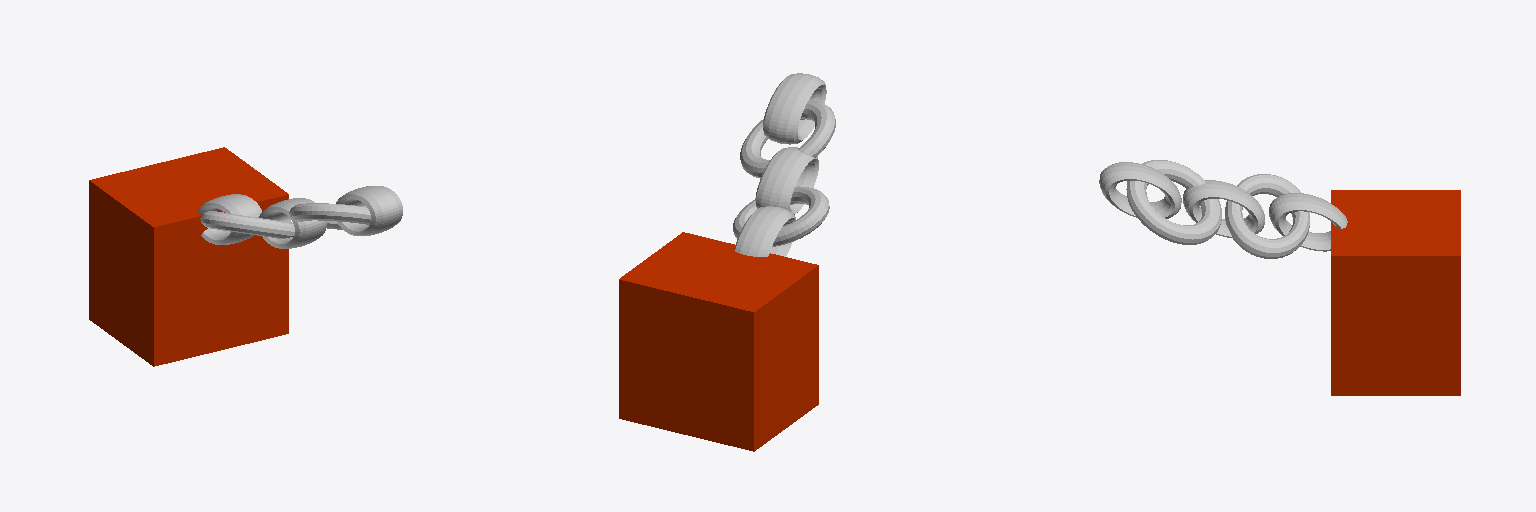
File: cadenitas.obj
3 views of the same model, side by side, from view 1: azimuth 30°, elevation 25°; view 2: azimuth 150°, elevation 25°; view 3: azimuth 270°, elevation 25° (orthographic).
Visible parts, largest first — view 1: Cube.002; view 2: Cube.002; view 3: Cube.002.
Boxes of the visible parts, <box> form: Cube.002: <box>89,147,402,366</box>; Cube.002: <box>619,73,835,451</box>; Cube.002: <box>1099,160,1460,395</box>.
Bounding box in the file's own units: 0.455 × 0.6294 × 0.9286.